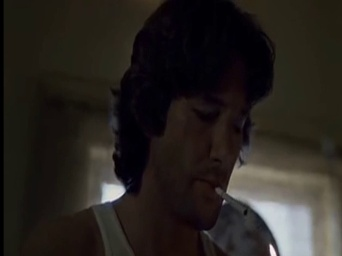smoke: (212, 184, 248, 215)
